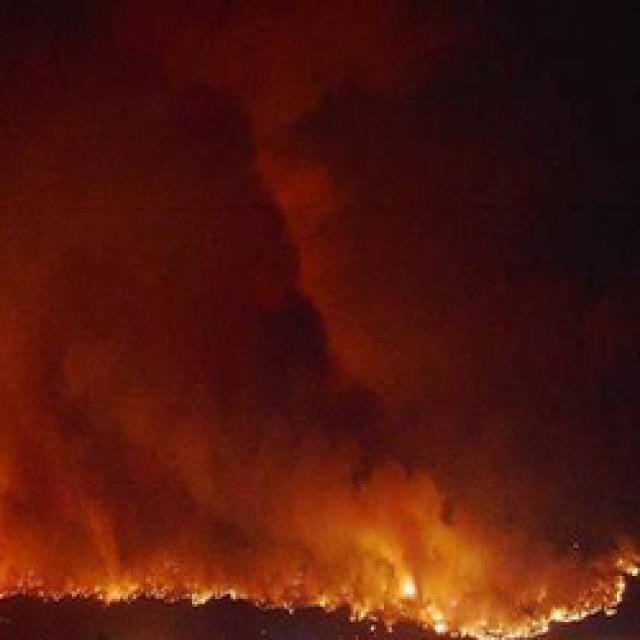Fire: (333, 512, 640, 640), (0, 540, 358, 627)
Smoke: (0, 81, 518, 535)
